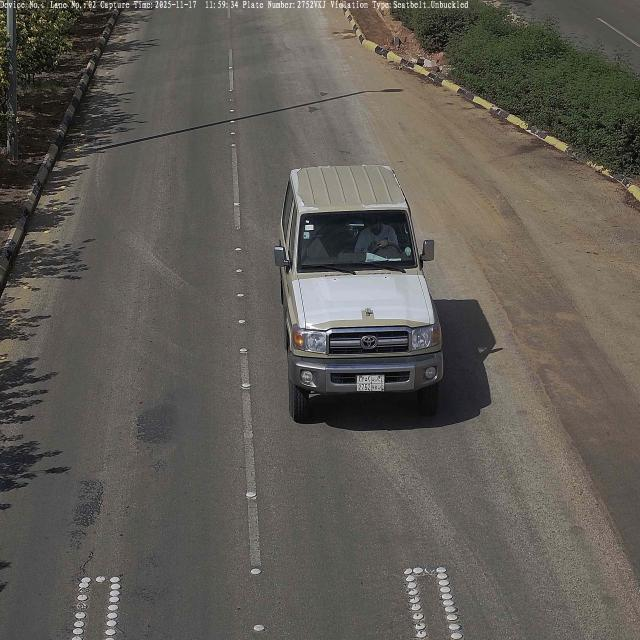person_without_seatbelt: (357, 216, 397, 256)
